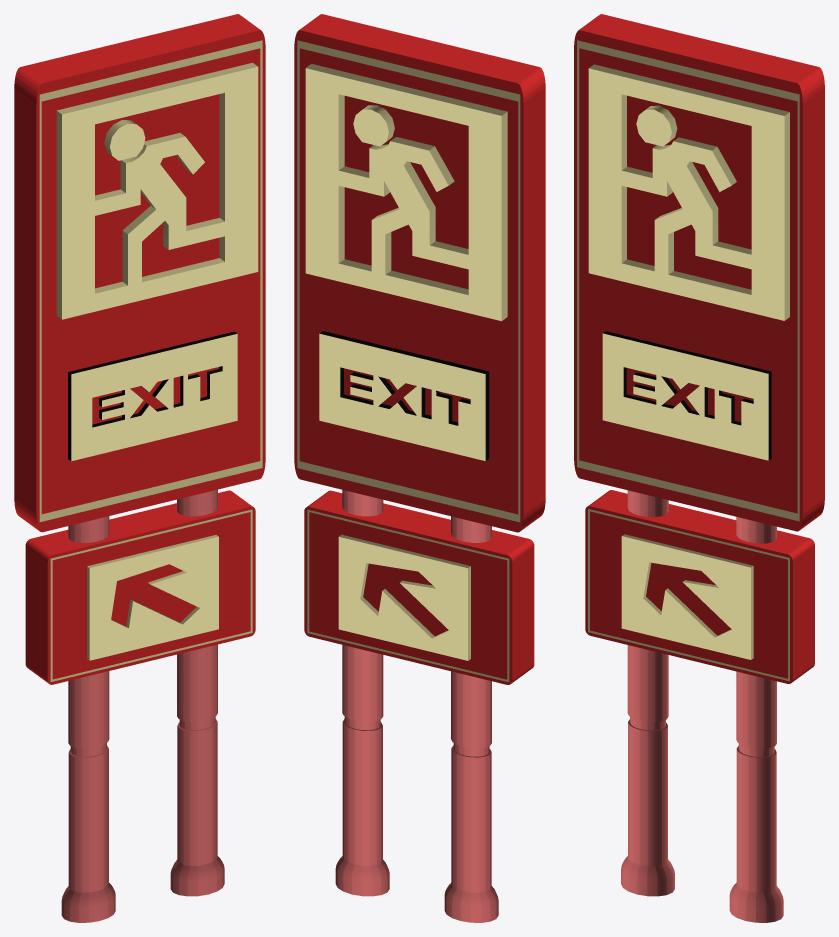
Rendered from EmergencyExitSign_FBX.fbx.
The picture shows the model from 3 angles, left to right: view 1: azimuth 30°, elevation 25°; view 2: azimuth 150°, elevation 25°; view 3: azimuth 330°, elevation 25°; orthographic projection.
Parts seen in each view (by area): view 1: ExitSign; view 2: ExitSign; view 3: ExitSign.
Boxes of the visible parts, <box> form: ExitSign: <box>14,14,265,922</box>; ExitSign: <box>294,14,545,922</box>; ExitSign: <box>574,14,824,922</box>.
Bounding box in the file's own units: 61.96 × 220 × 15.71.
